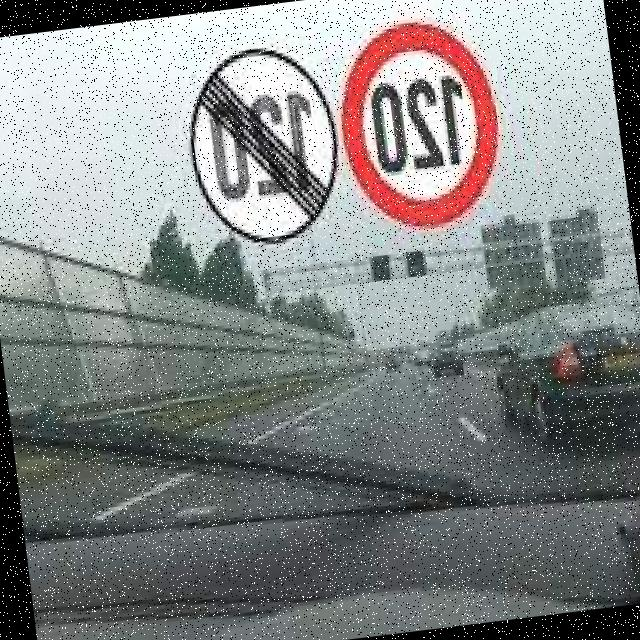speed_limit_120: (329, 6, 518, 245)
